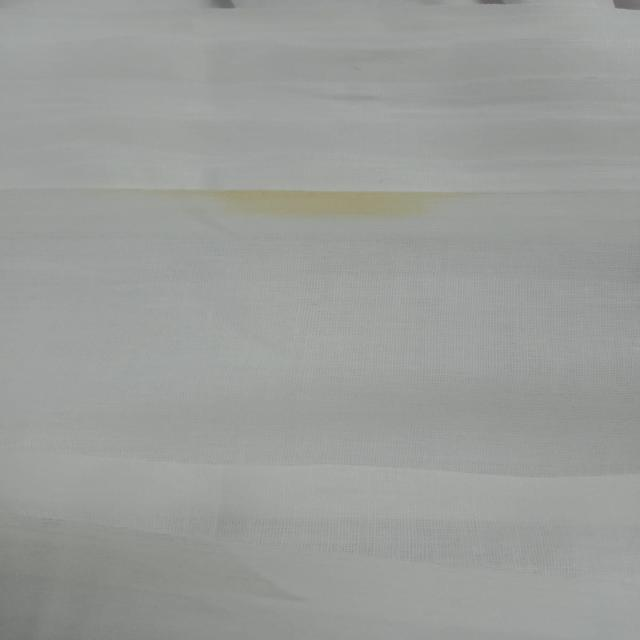stain: (156, 175, 483, 231)
